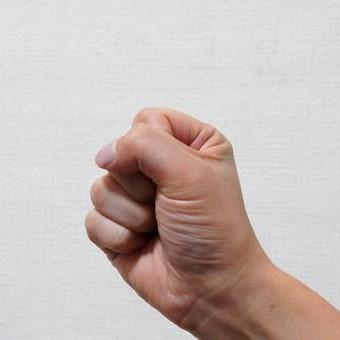gu-: (85, 107, 248, 308)
